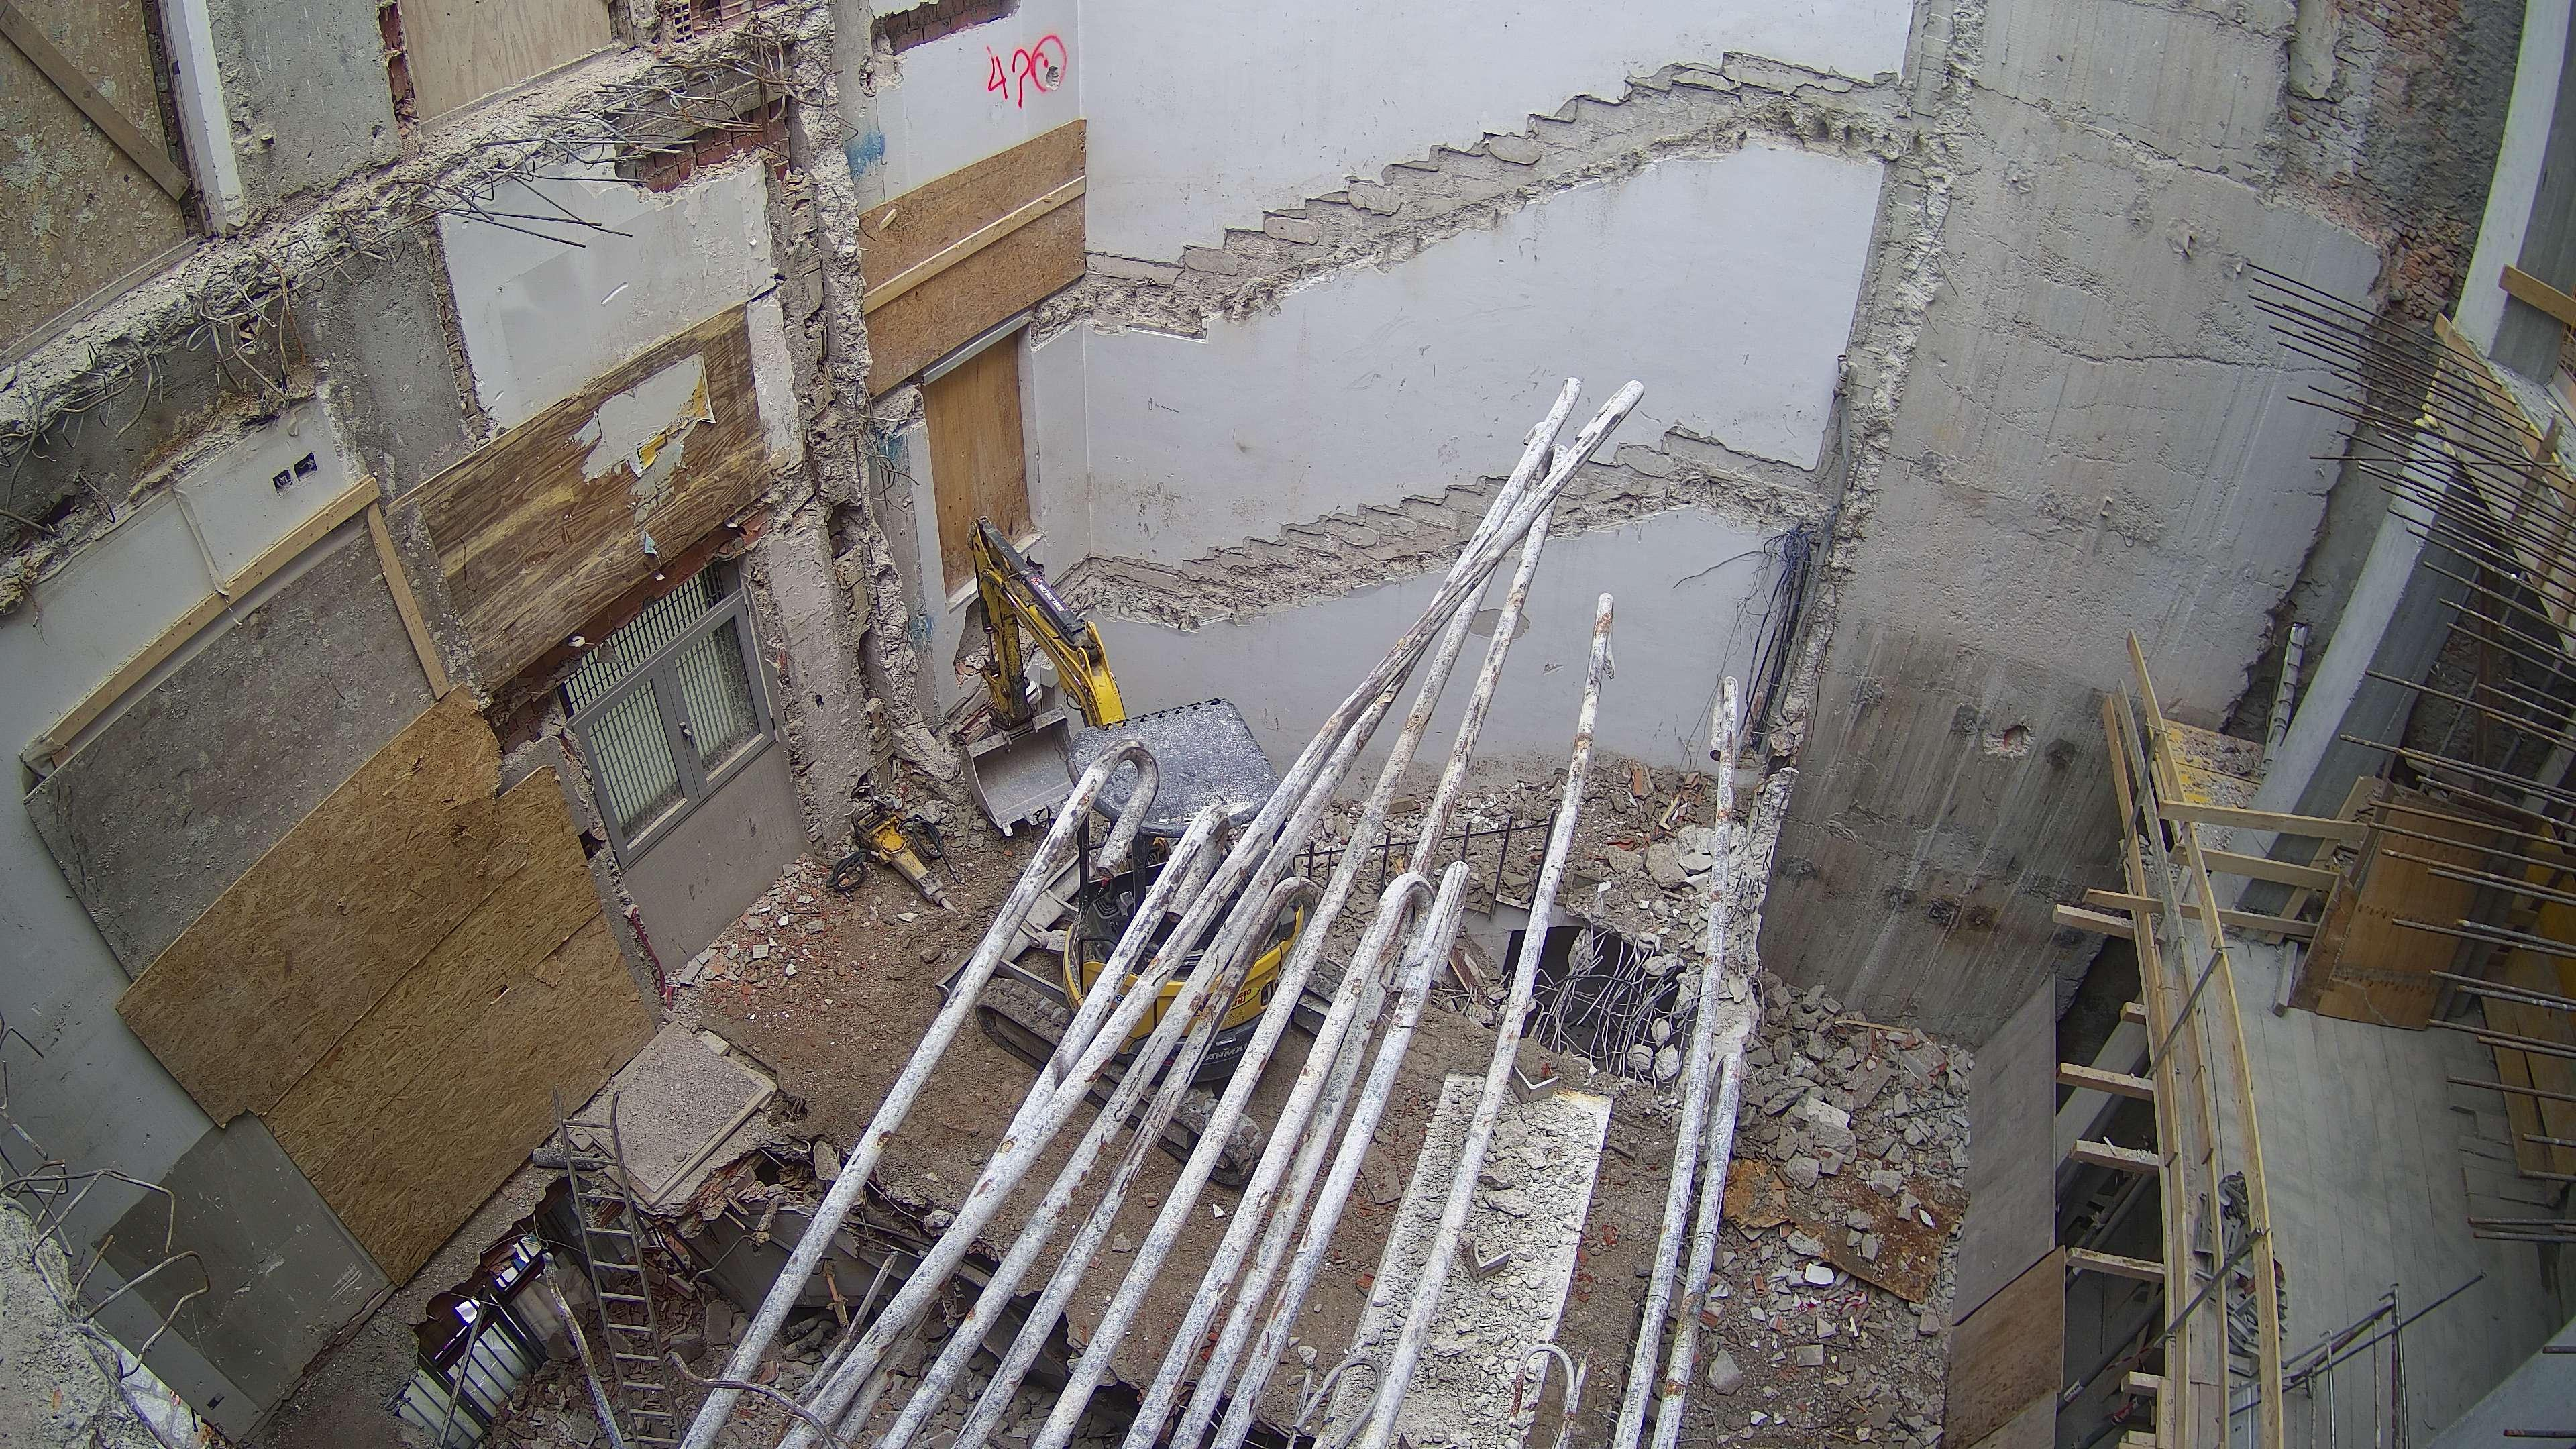excavator: (936, 515, 1352, 1187)
